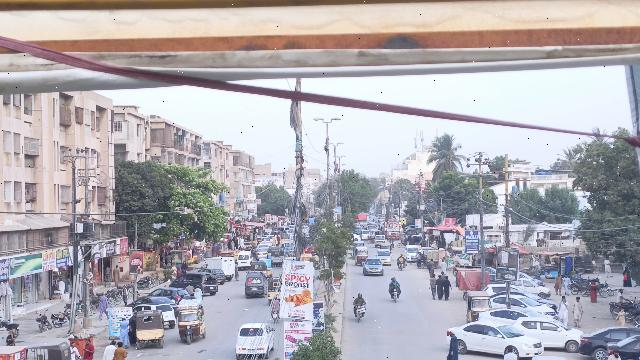Bike: (353, 303, 365, 322), (389, 286, 401, 303)
Car: (445, 321, 543, 359), (516, 316, 584, 352), (575, 326, 640, 360), (234, 323, 277, 360), (170, 273, 219, 297), (360, 257, 385, 277)
Person: (446, 326, 461, 360), (555, 294, 570, 325), (570, 294, 583, 329), (96, 290, 109, 318), (113, 340, 129, 360), (102, 338, 116, 360), (442, 275, 453, 302), (82, 339, 95, 360), (428, 273, 437, 300), (435, 274, 444, 301), (353, 291, 366, 306), (389, 275, 400, 290)
Rickshaw: (134, 309, 166, 350), (176, 303, 206, 346), (462, 289, 490, 323)
Van: (244, 269, 266, 301)
